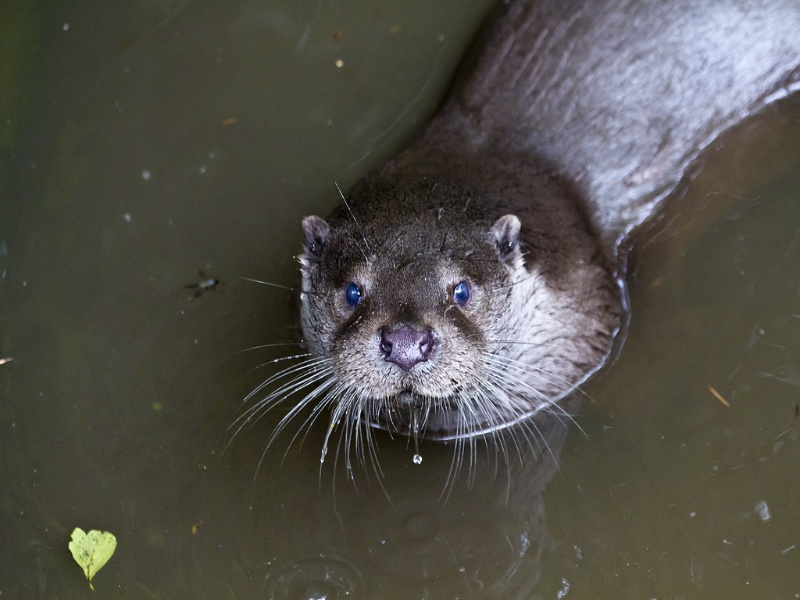minkish: (253, 7, 800, 464)
